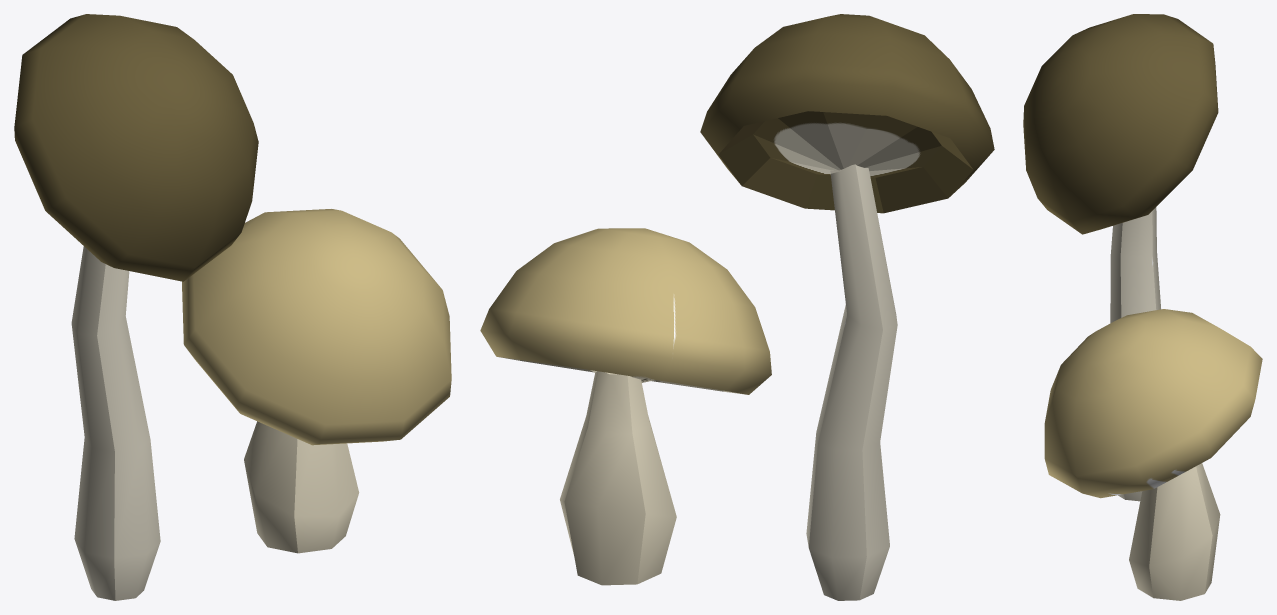
Rendered from mushroom_2.fbx.
3 views of the same model, side by side, from view 1: azimuth 30°, elevation 25°; view 2: azimuth 150°, elevation 25°; view 3: azimuth 270°, elevation 25° (orthographic). The views are drawn at different scales.
Visible parts, largest first — view 1: mushroom_1, mushroom_2; view 2: mushroom_1, mushroom_2; view 3: mushroom_2, mushroom_1.
Boxes of the visible parts, x1,y1,x2,y2 form: mushroom_1: [14, 14, 258, 600]; mushroom_2: [182, 209, 451, 553]; mushroom_1: [700, 14, 994, 600]; mushroom_2: [480, 228, 771, 585]; mushroom_2: [1044, 309, 1262, 600]; mushroom_1: [1023, 14, 1218, 501].
Size of the model in its own units: 304 by 373 by 170.
1 material, 1 textured.
